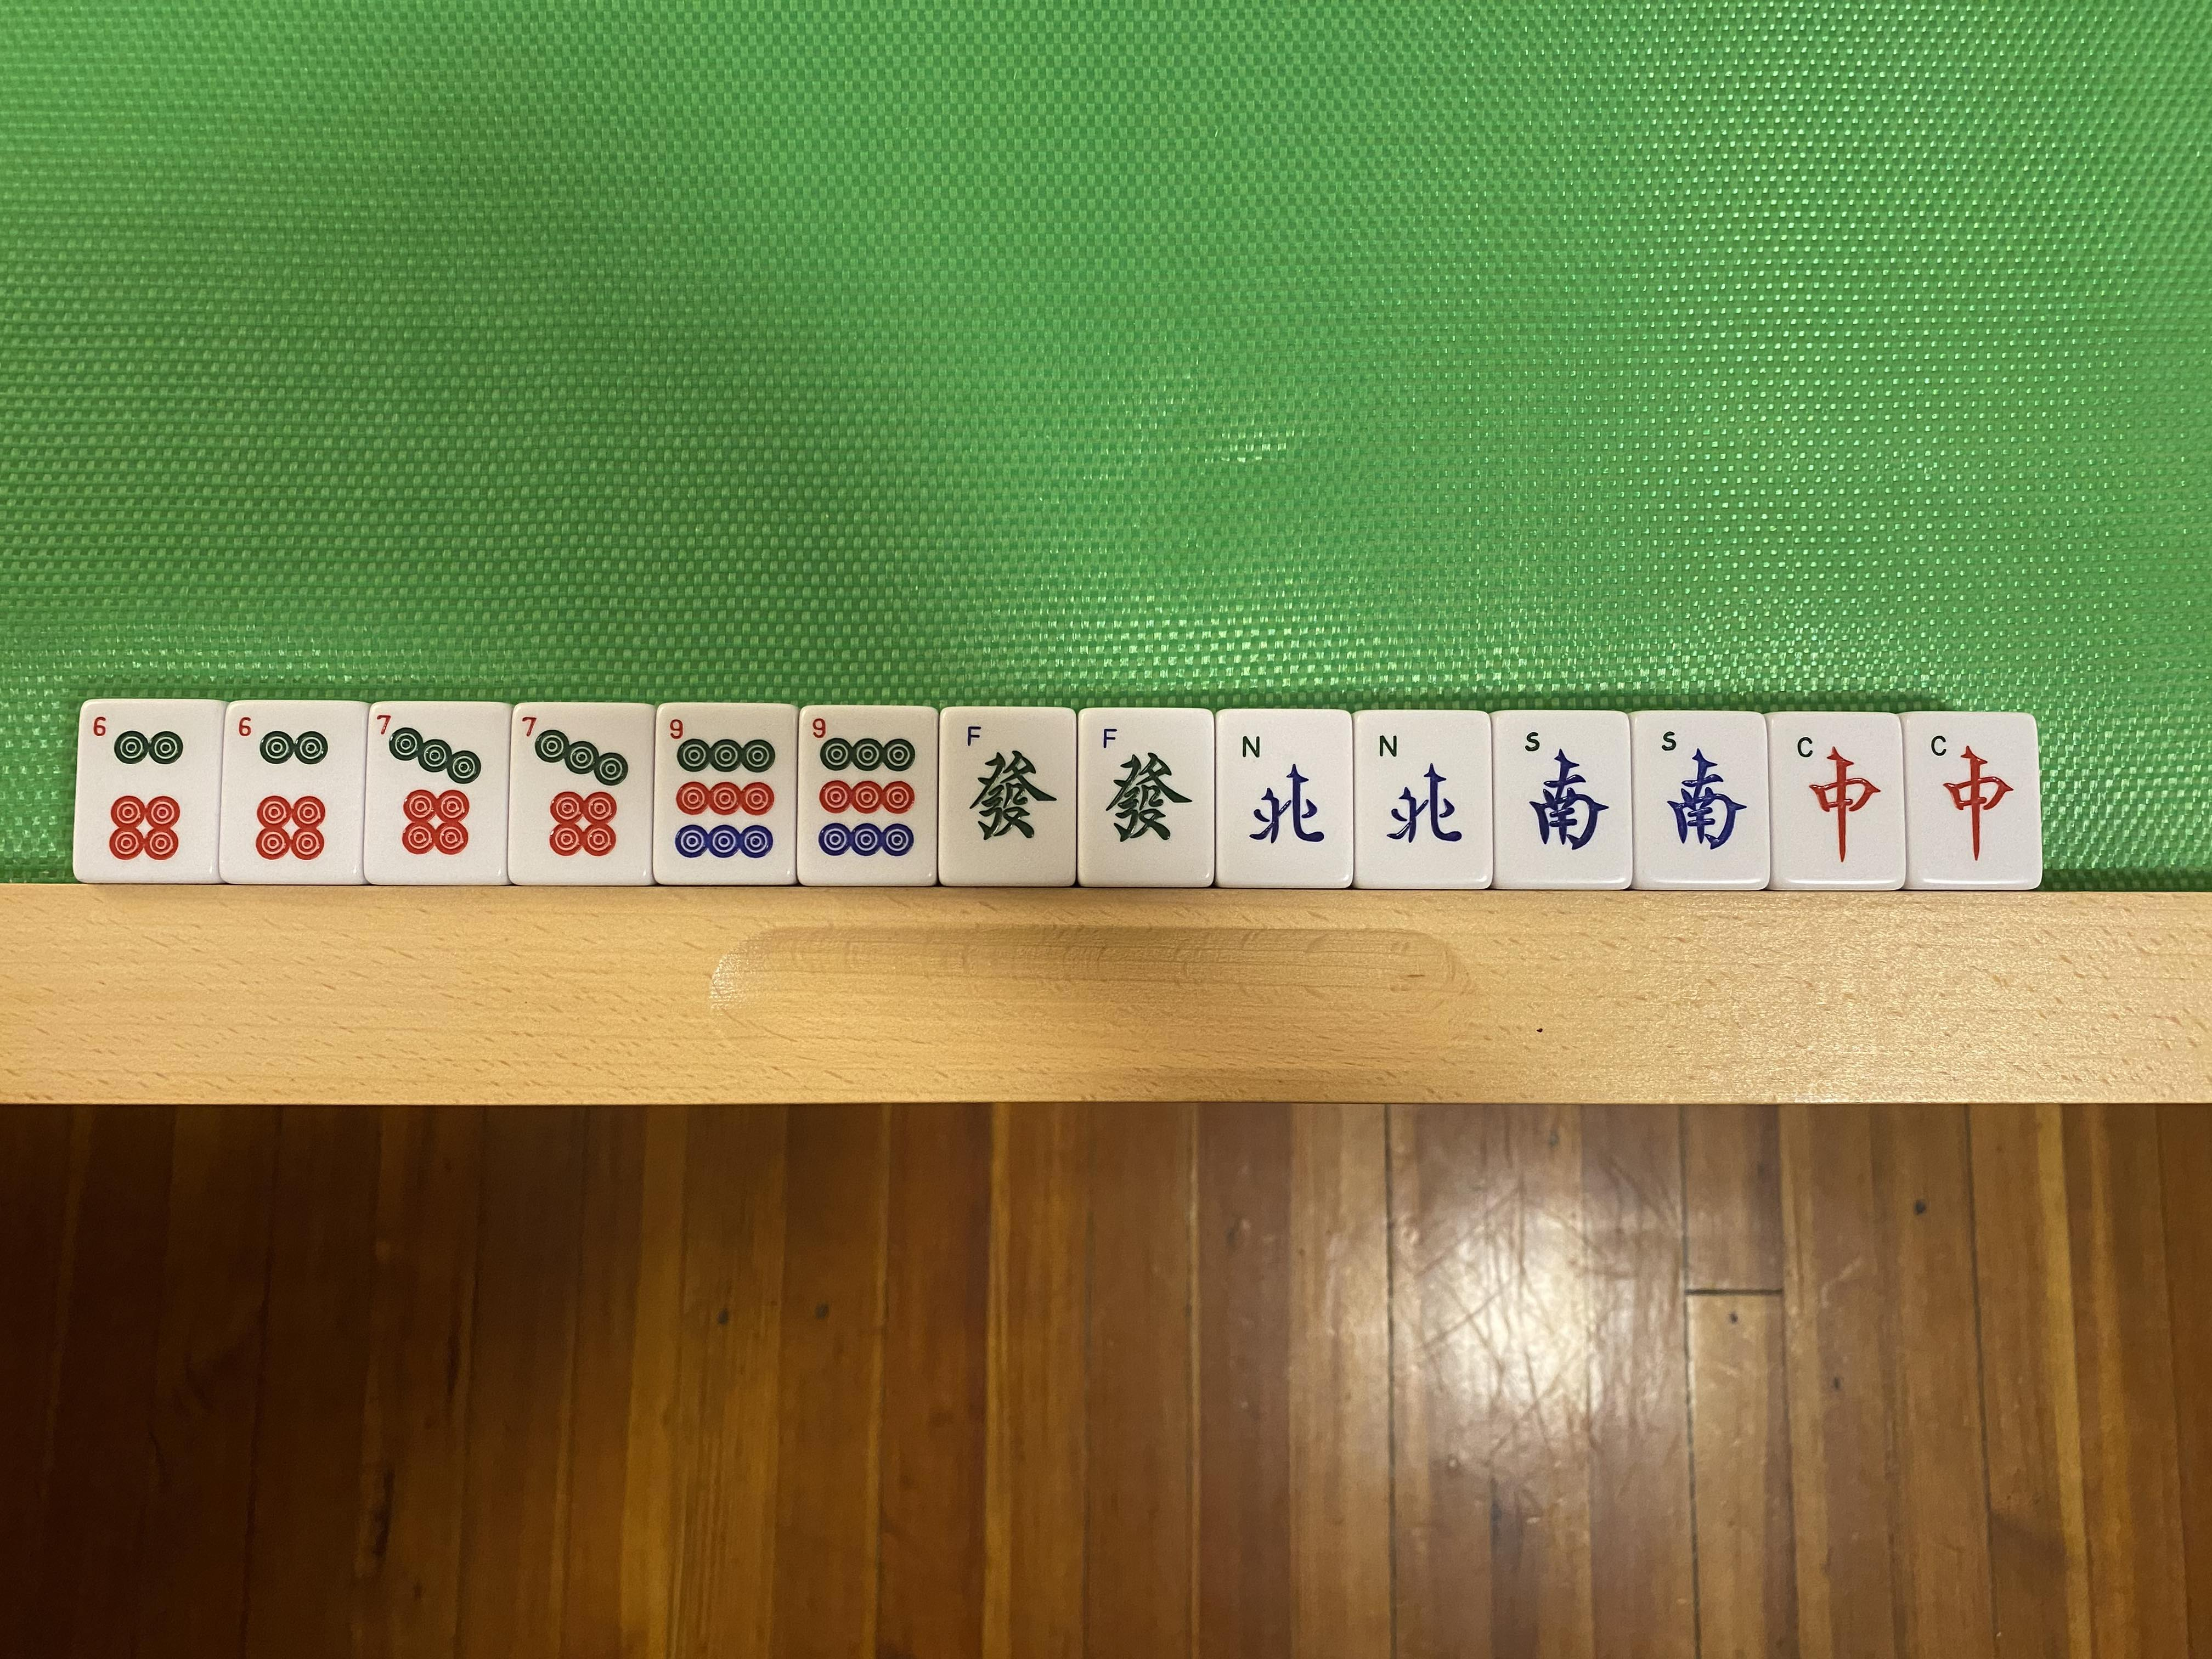circle-nine: (653, 706, 796, 885), (798, 711, 937, 884)
circle-seven: (510, 706, 650, 884), (368, 708, 507, 878)
circle-six: (80, 701, 211, 880), (228, 702, 357, 877)
honor-green_dragon: (1080, 713, 1212, 884), (942, 711, 1071, 880)
honor-north_wind: (1219, 714, 1350, 885), (1359, 714, 1486, 887)
honor-red_dragon: (1770, 720, 1898, 887), (1911, 720, 2034, 885)
honor-south_wind: (1493, 714, 1629, 887), (1637, 713, 1763, 884)
